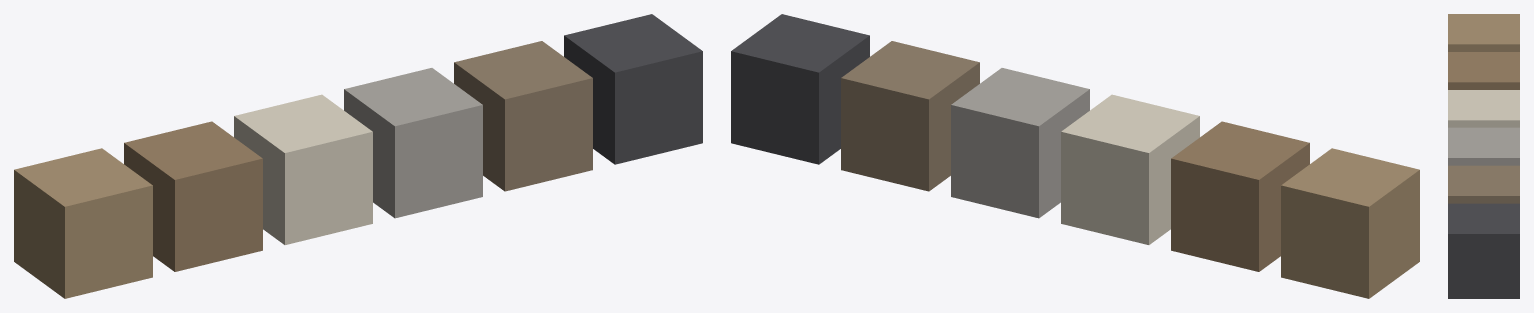
File: calibration_material_base_color.glb
3 views of the same model, side by side, from view 1: azimuth 30°, elevation 25°; view 2: azimuth 150°, elevation 25°; view 3: azimuth 270°, elevation 25° (orthographic). The views are drawn at different scales.
Visible parts, largest first — view 1: swatch_0, swatch_1, swatch_2, swatch_3, swatch_4, swatch_5; view 2: swatch_0, swatch_1, swatch_2, swatch_3, swatch_4, swatch_5; view 3: swatch_5, swatch_3, swatch_4, swatch_0, swatch_1, swatch_2.
Boxes of the visible parts, x1,y1,x2,y2 form: swatch_0: (14, 148, 152, 298); swatch_1: (124, 121, 262, 271); swatch_2: (234, 94, 372, 244); swatch_3: (344, 68, 482, 218); swatch_4: (454, 41, 592, 191); swatch_5: (564, 14, 702, 164); swatch_0: (1281, 148, 1419, 298); swatch_1: (1171, 121, 1309, 271); swatch_2: (1061, 94, 1199, 244); swatch_3: (951, 68, 1089, 218); swatch_4: (841, 41, 979, 191); swatch_5: (731, 14, 869, 164); swatch_5: (1448, 203, 1519, 298); swatch_3: (1448, 127, 1519, 165); swatch_4: (1448, 165, 1519, 203); swatch_0: (1448, 14, 1519, 51); swatch_1: (1448, 52, 1519, 89); swatch_2: (1448, 90, 1519, 127).
Bounding box in the file's own units: 2.9 × 0.4 × 0.4.
